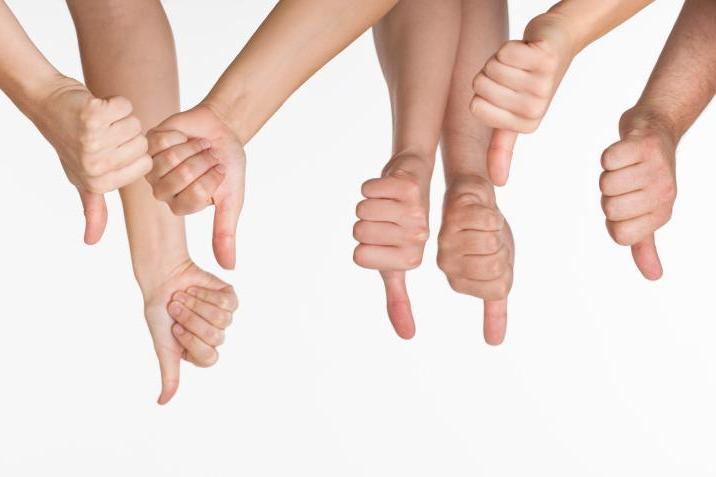thumbsdown: (143, 126, 241, 273), (470, 39, 560, 187), (354, 176, 430, 340), (74, 98, 153, 245), (436, 202, 516, 346), (600, 139, 679, 282), (157, 283, 240, 406)
